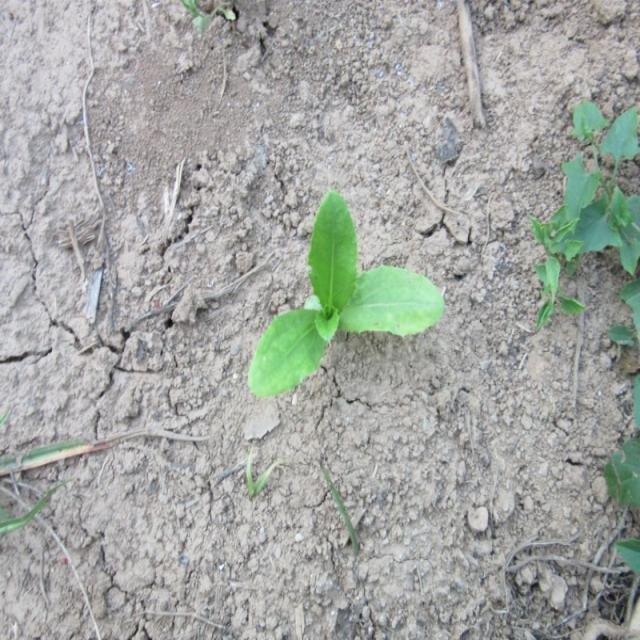cs: (246, 191, 445, 400)
